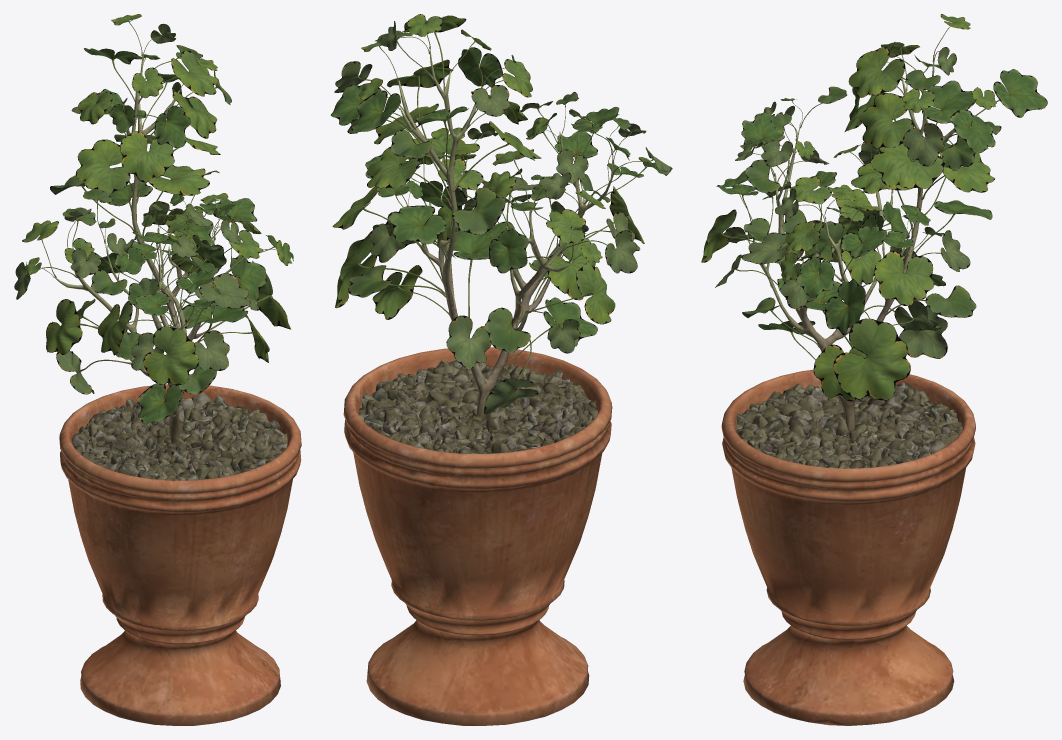
File: potted_plant_01.glb
3 views of the same model, side by side, from view 1: azimuth 30°, elevation 25°; view 2: azimuth 150°, elevation 25°; view 3: azimuth 270°, elevation 25° (orthographic). The views are drawn at different scales.
Parts seen in each view (by area): view 1: potted_plant_01_stem, potted_plant_01_leaves; view 2: potted_plant_01_stem, potted_plant_01_leaves; view 3: potted_plant_01_stem, potted_plant_01_leaves.
Part boxes in pixels (<box>): potted_plant_01_stem: <box>54,54,301,725</box>; potted_plant_01_leaves: <box>14,14,293,424</box>; potted_plant_01_stem: <box>343,48,613,725</box>; potted_plant_01_leaves: <box>331,14,672,414</box>; potted_plant_01_stem: <box>721,55,975,725</box>; potted_plant_01_leaves: <box>701,14,1047,401</box>.
Bounding box in the file's own units: 0.5874 × 1.34 × 0.6336.
2 materials, 2 textured.
